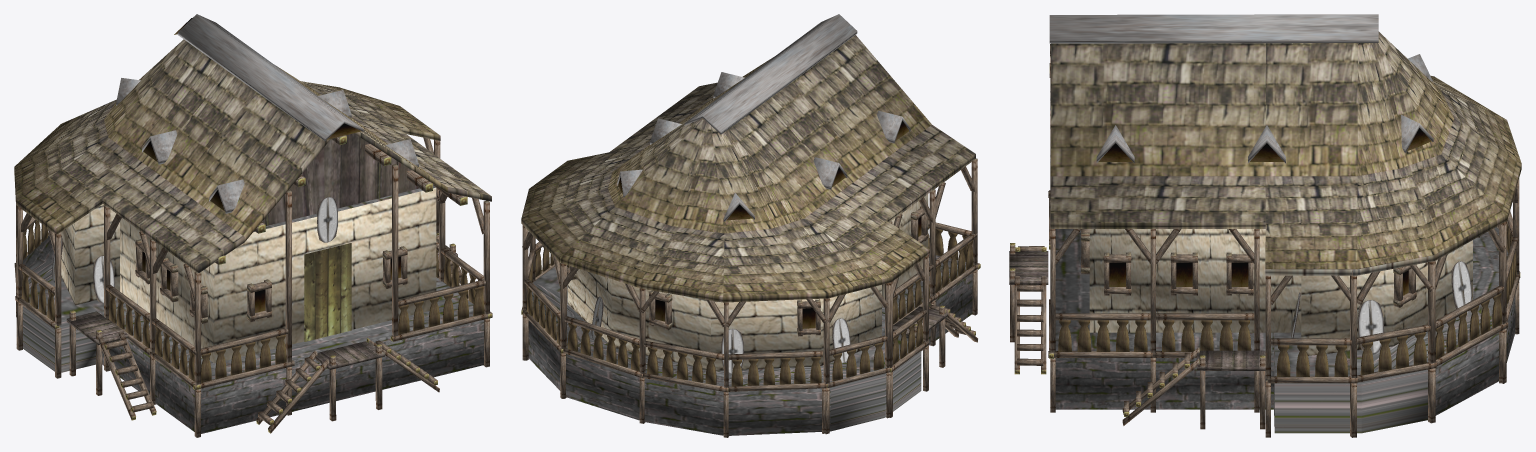
Rendered from assembleia_3.dae.
3 views of the same model, side by side, from view 1: azimuth 30°, elevation 25°; view 2: azimuth 150°, elevation 25°; view 3: azimuth 270°, elevation 25° (orthographic). The views are drawn at different scales.
Parts seen in each view (by area): view 1: assembleia_3; view 2: assembleia_3; view 3: assembleia_3.
Boxes of the visible parts, x1=… form: assembleia_3: x1=14, y1=14, x2=492, y2=437; assembleia_3: x1=521, y1=14, x2=980, y2=437; assembleia_3: x1=1009, y1=14, x2=1521, y2=437.
Bounding box in the file's own units: 22.92 × 23.45 × 16.02.
